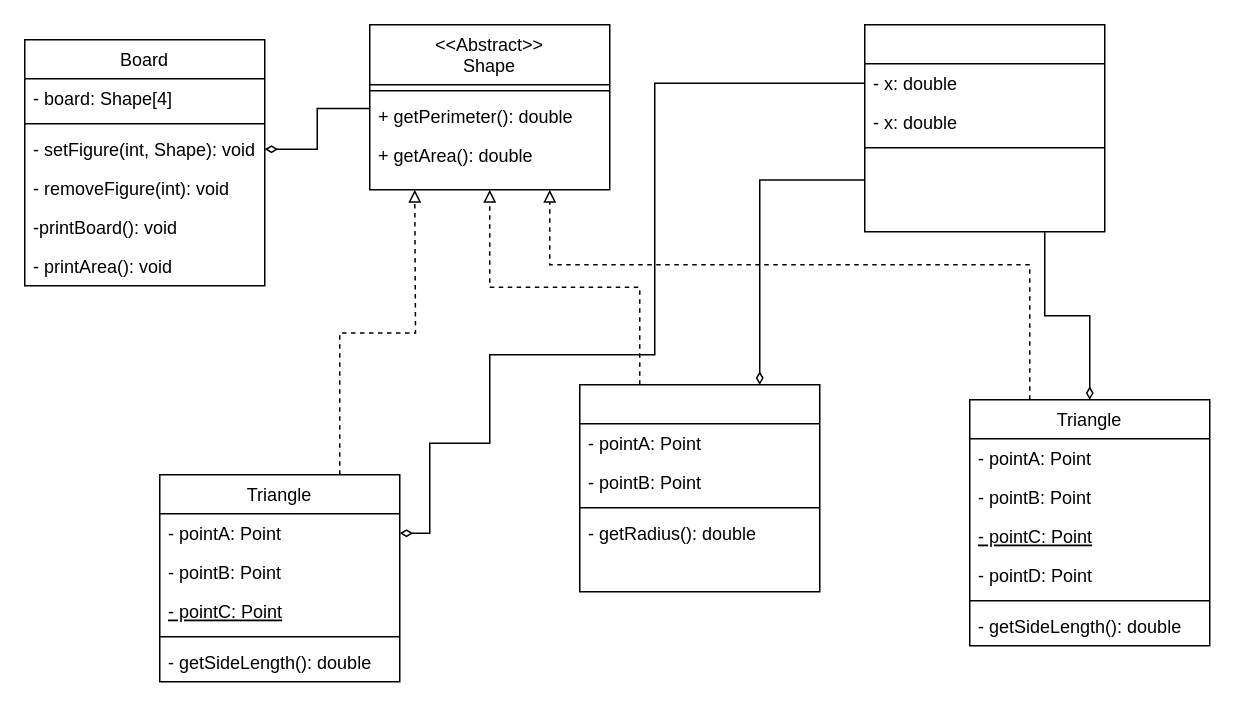
This 1235x707 diagram has some shape labels left out. The box of each missing label's shape, as (x1, y1, x2, y2) in pixels:
Circle: (578, 383, 820, 592)
Point: (863, 23, 1105, 232)
